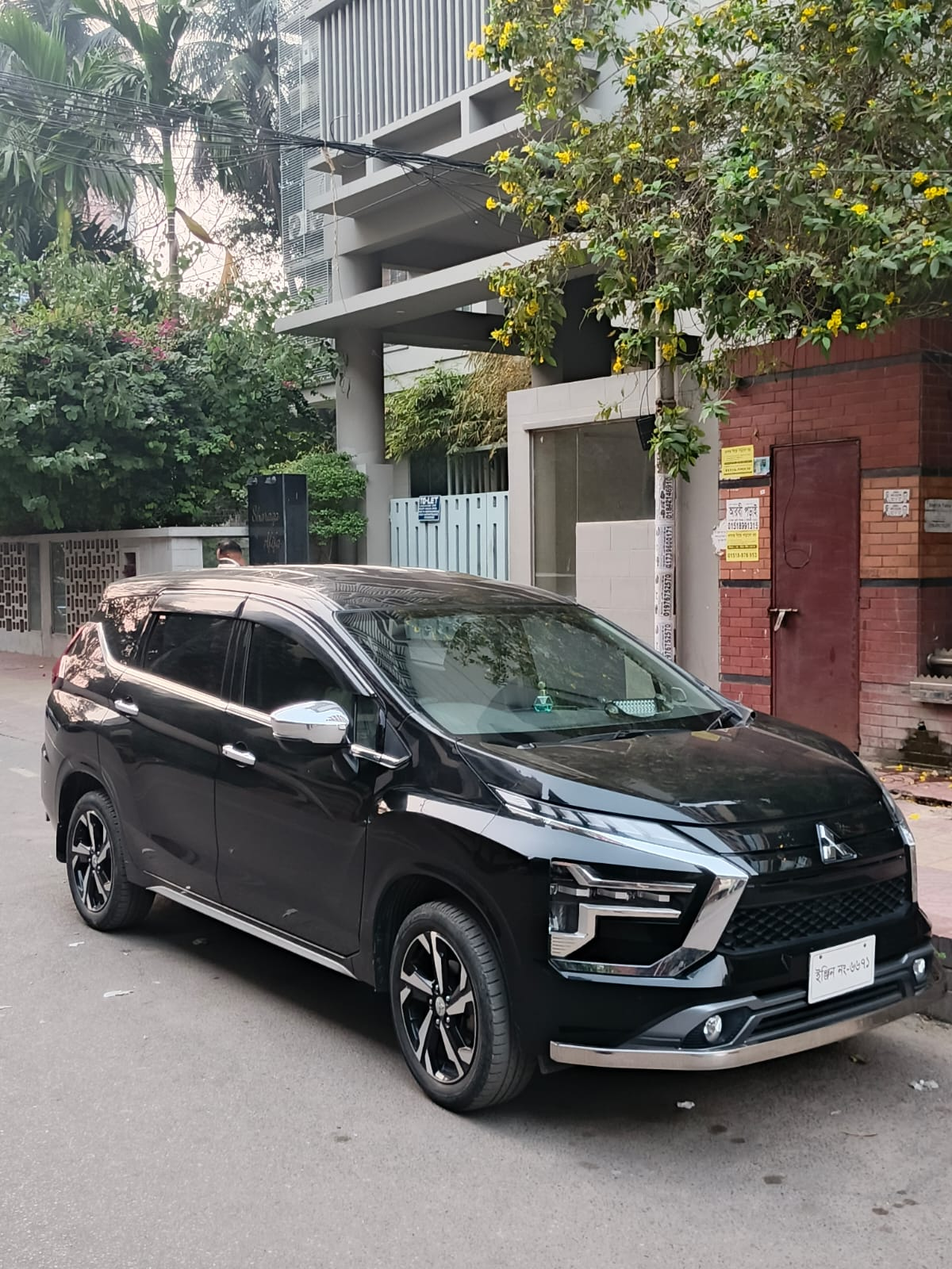private car: (36, 545, 952, 1142)
